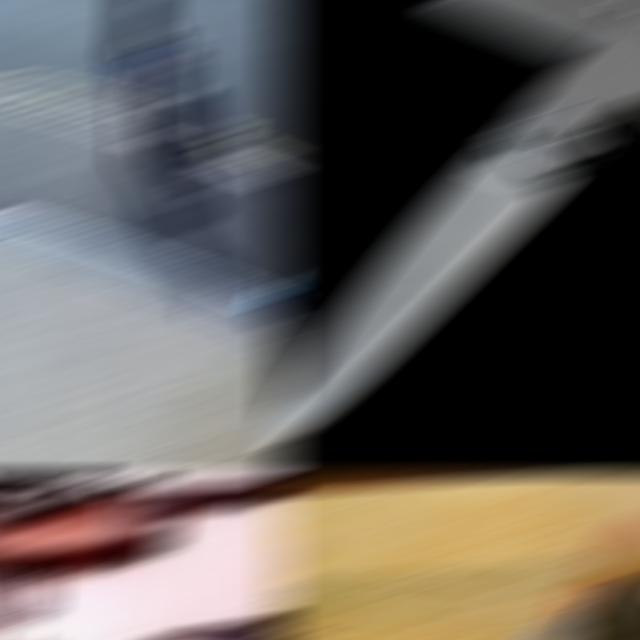Knife: (270, 14, 640, 443)
Knife_Handle: (142, 50, 171, 84)
